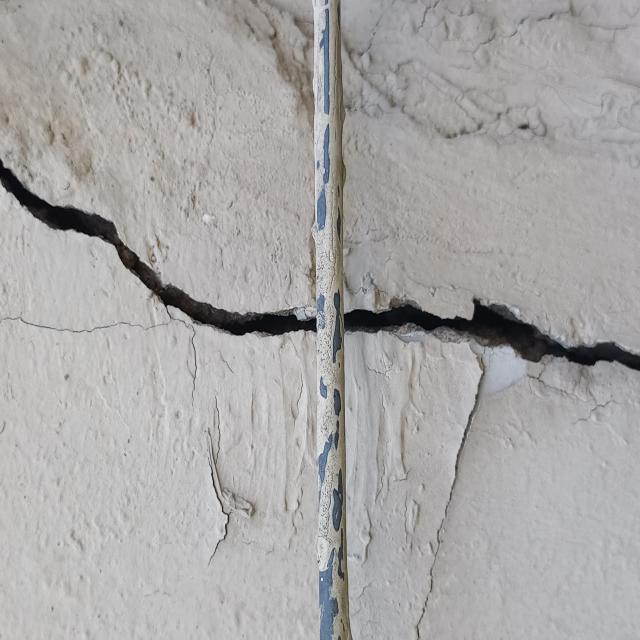SurfaceCrack: (338, 252, 639, 537)
